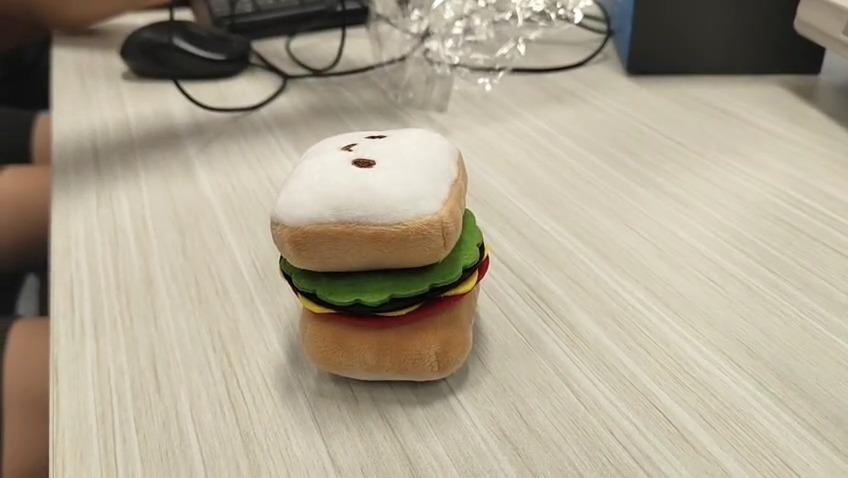objects: (268, 129, 490, 380)
